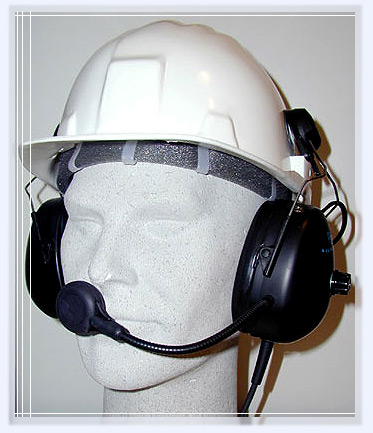helmet: (27, 30, 321, 161)
